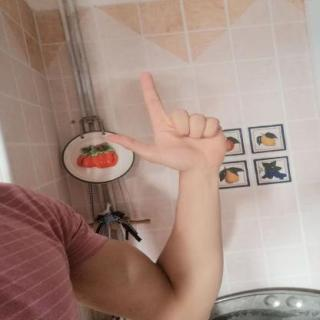LAAM: (94, 64, 234, 178)
